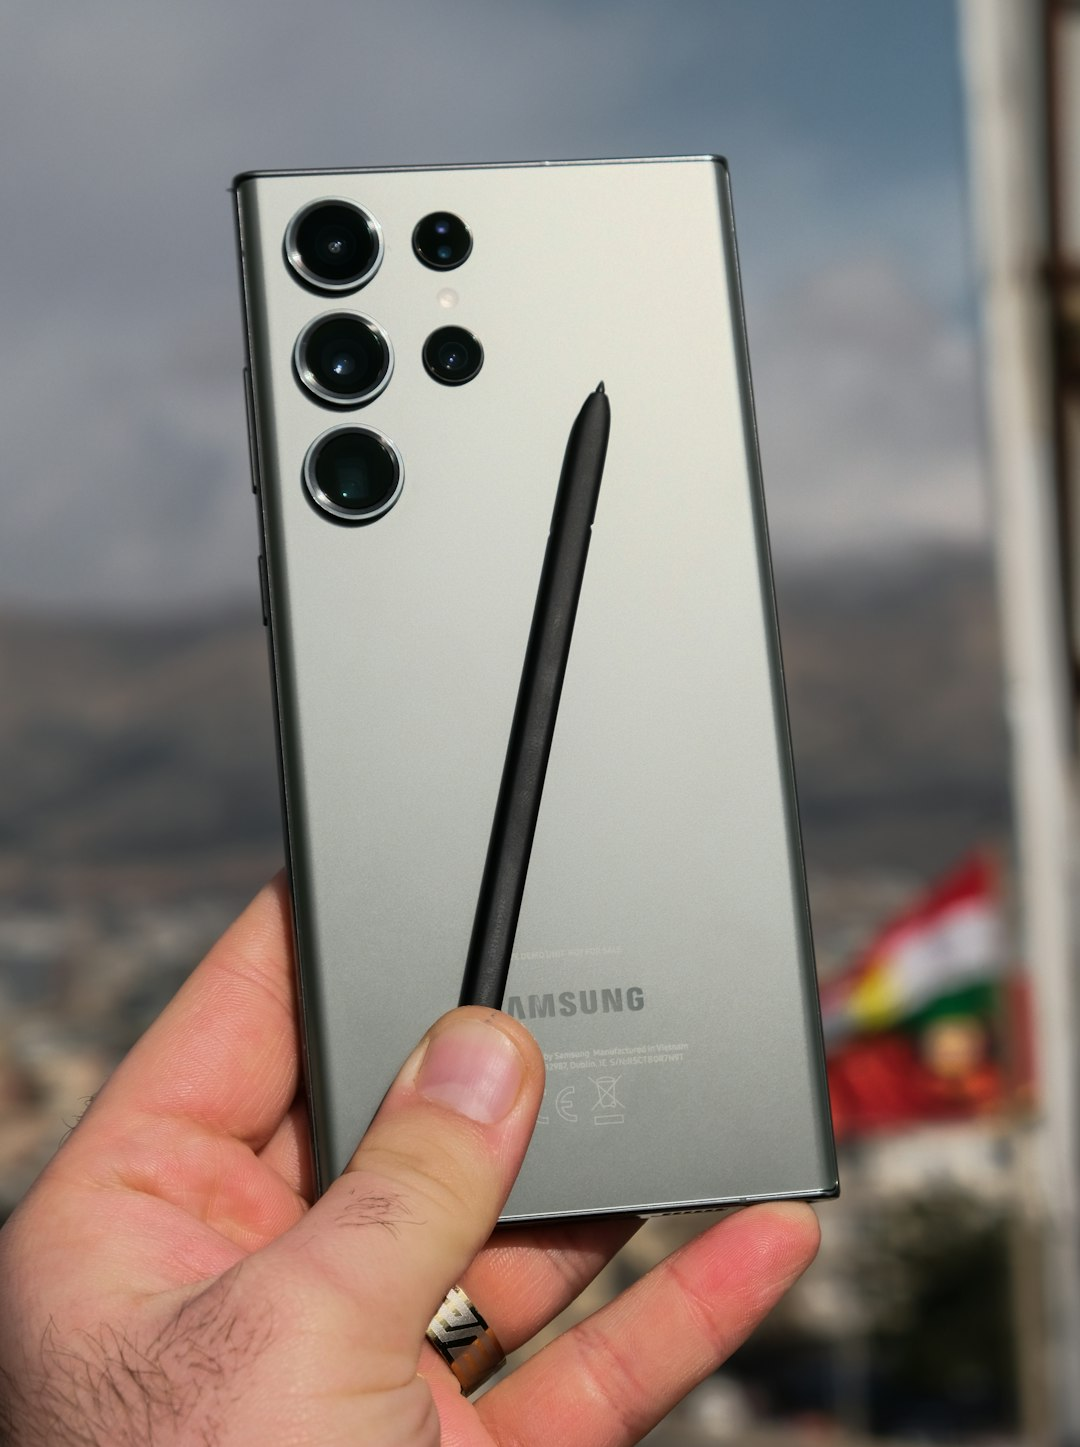phone: (229, 156, 842, 1227)
